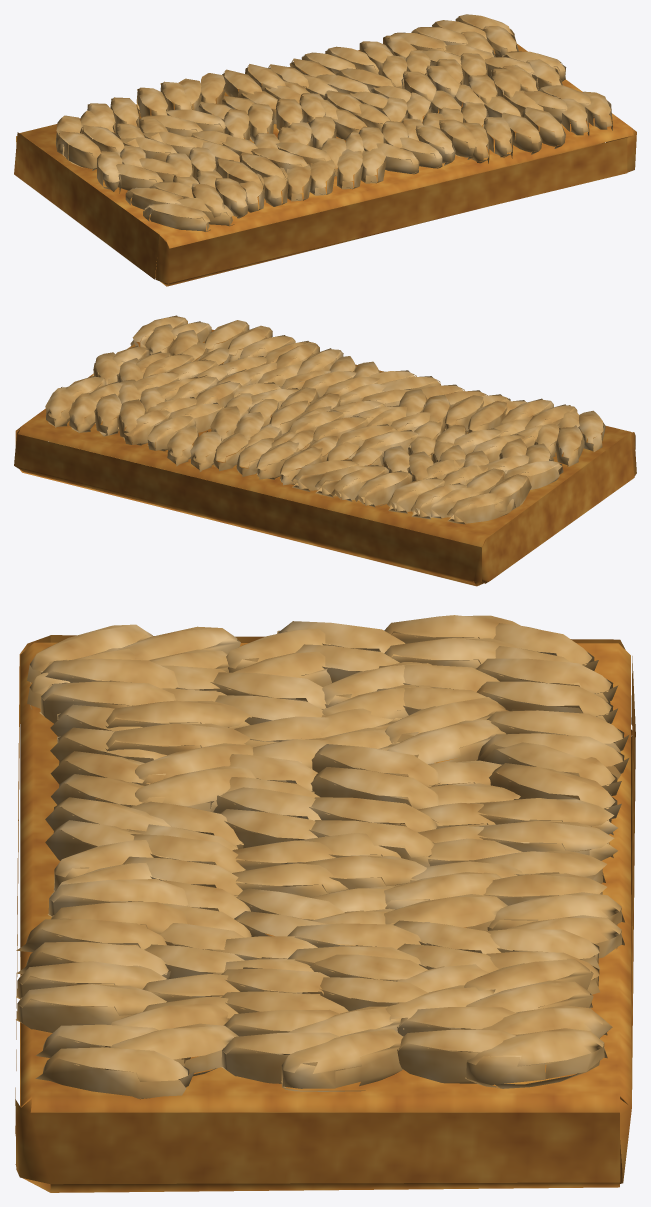
File: dulce_palanqueta.gltf
The picture shows the model from 3 angles, top to bottom: view 1: azimuth 30°, elevation 25°; view 2: azimuth 150°, elevation 25°; view 3: azimuth 270°, elevation 25°; orthographic projection. The views are drawn at different scales.
Visible parts, largest first — view 1: cacahuates, caramelo; view 2: cacahuates, caramelo; view 3: cacahuates, caramelo.
Part boxes in pixels (left/top/right/bottom): cacahuates: left=56, top=14, right=612, bottom=231; caramelo: left=14, top=44, right=636, bottom=286; cacahuates: left=45, top=315, right=605, bottom=524; caramelo: left=14, top=326, right=636, bottom=586; cacahuates: left=16, top=615, right=629, bottom=1099; caramelo: left=15, top=635, right=635, bottom=1192.
Size of the model in its own units: 0.1143 by 0.0165 by 0.0643.
Materials: 2 (2 with a texture image).
